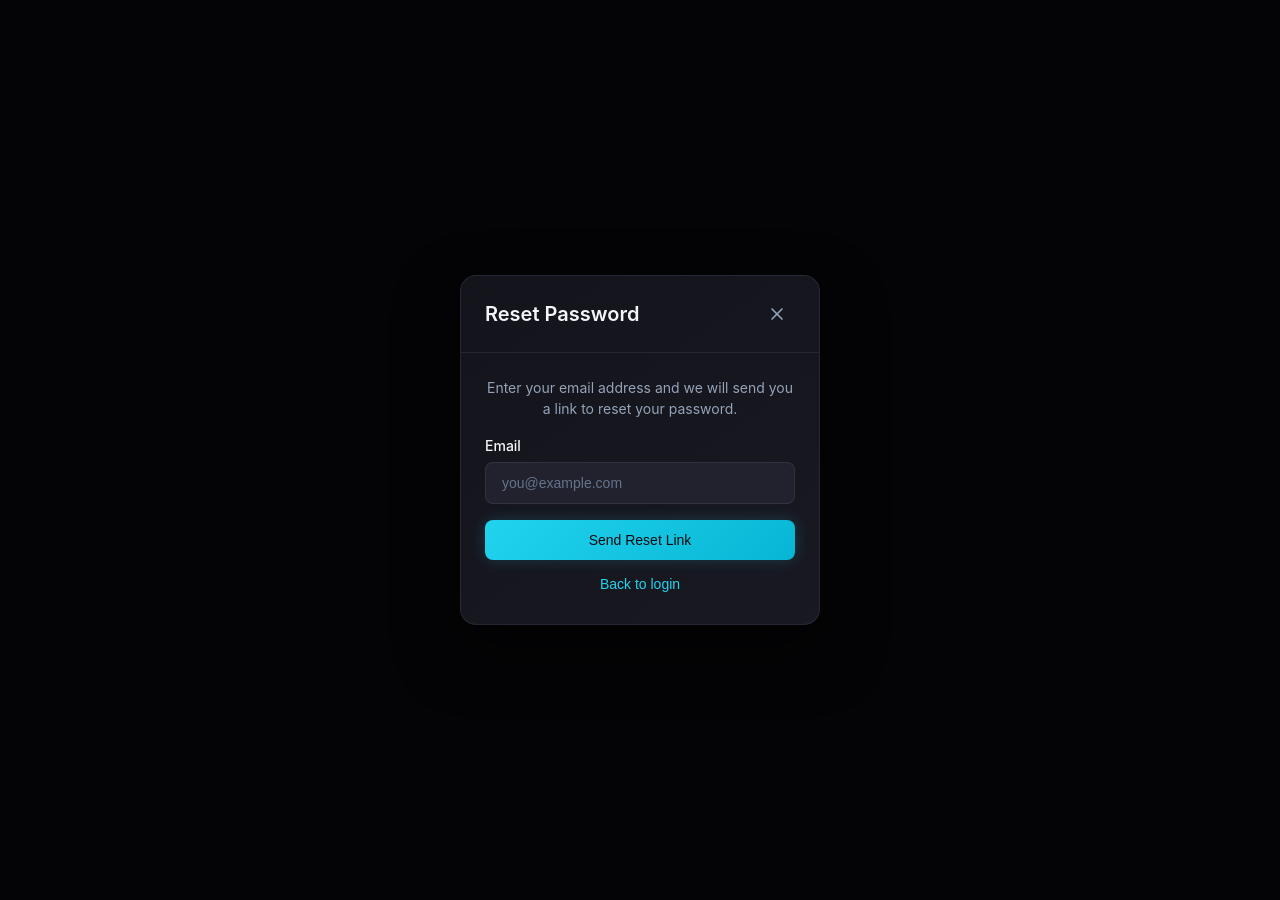
Test: ForgotPasswordModal Component › should show success message after submission regardless of email existence
Type "nonexistent@example.com" into the field with test id "forgot-password-email-input".
click(640, 483); type("nonexistent@example.com")  # box [485, 462, 795, 504]
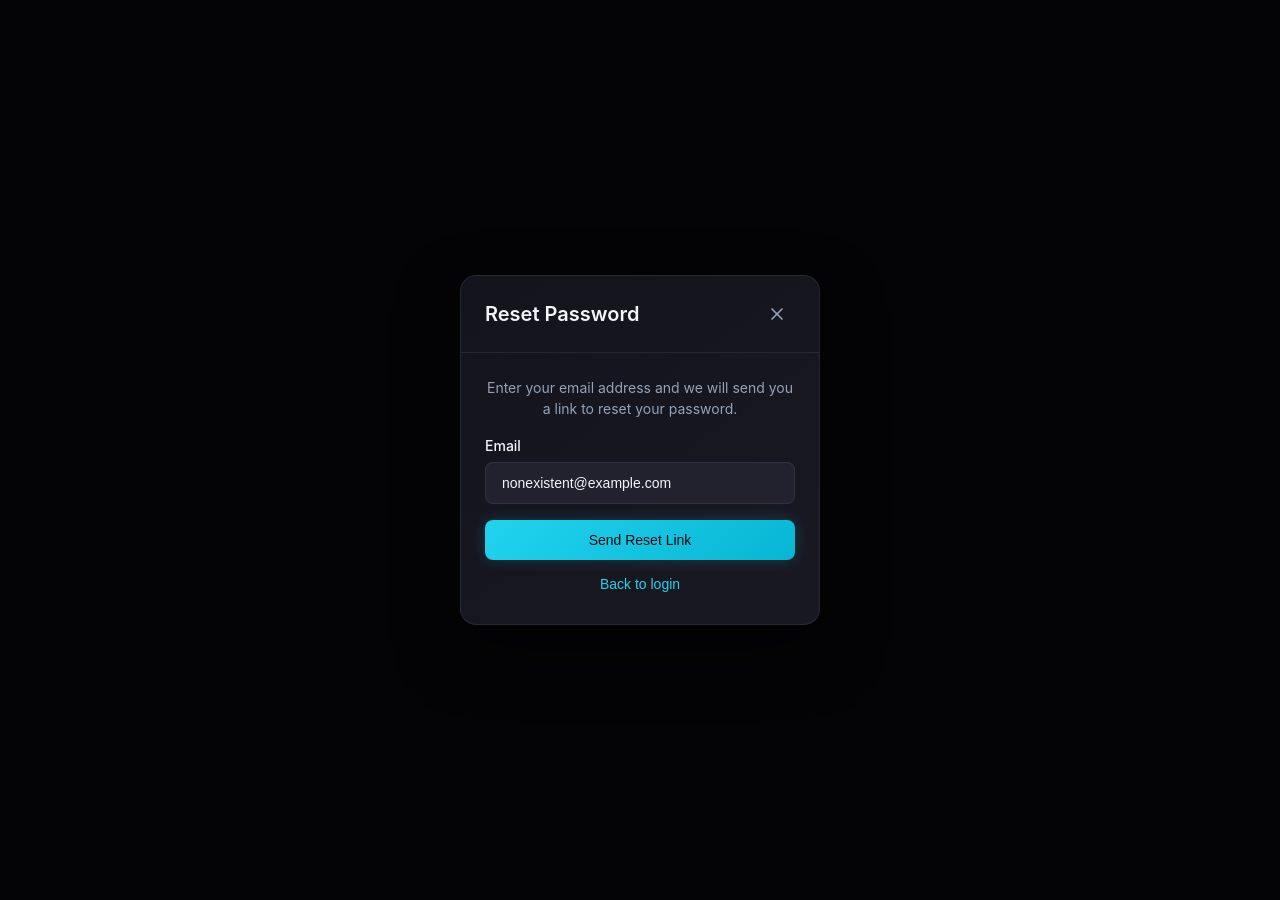
Click the button with test id "forgot-password-submit".
click(640, 540)  # box [485, 520, 795, 560]
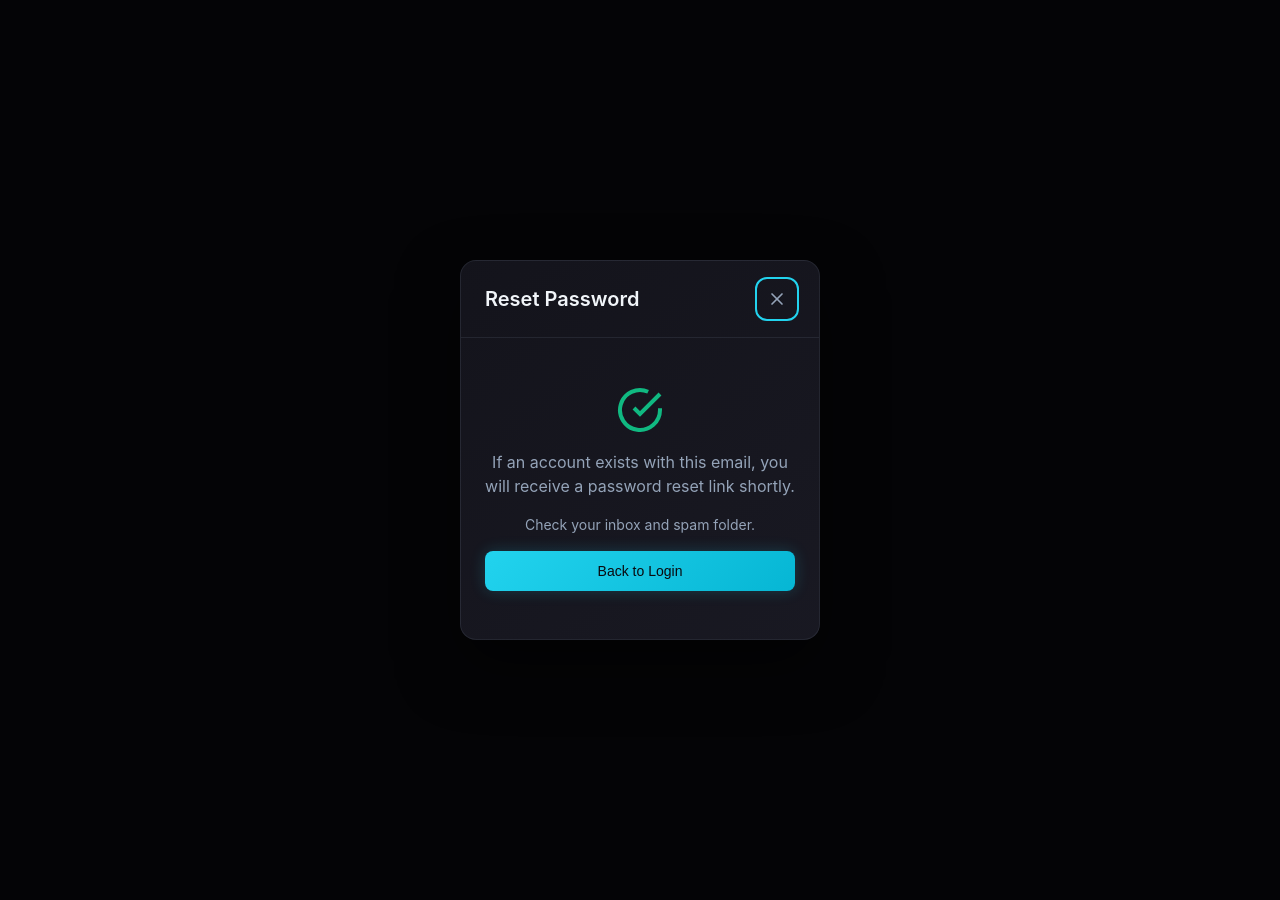
Result: the element with test id "forgot-password-success" is shown at [485, 362, 795, 615]
Result: the text "If an account exists with this email" is shown at [485, 452, 795, 496]
